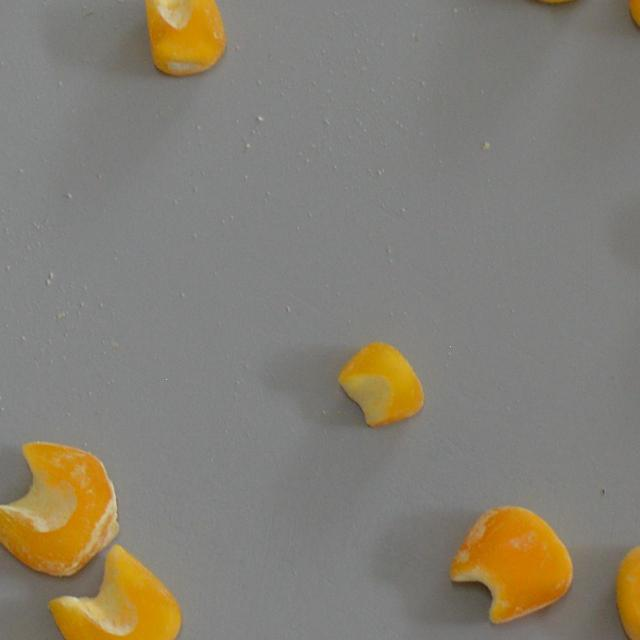no_canjicado: (48, 540, 182, 640), (338, 340, 424, 428)
pelicula: (0, 436, 119, 578), (448, 504, 572, 622), (143, 0, 226, 75), (615, 542, 640, 640)
